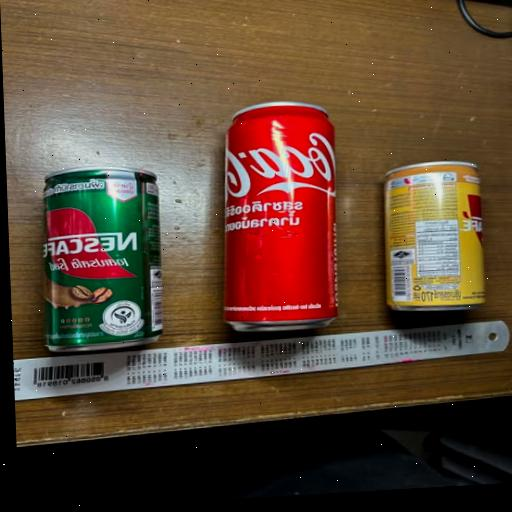bottle: (197, 77, 362, 349), (29, 149, 169, 368), (366, 138, 505, 334)
